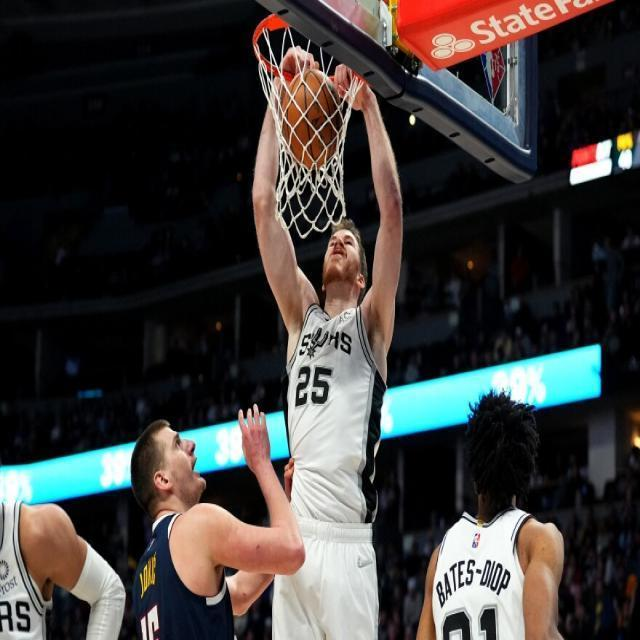ball: (278, 65, 344, 165)
